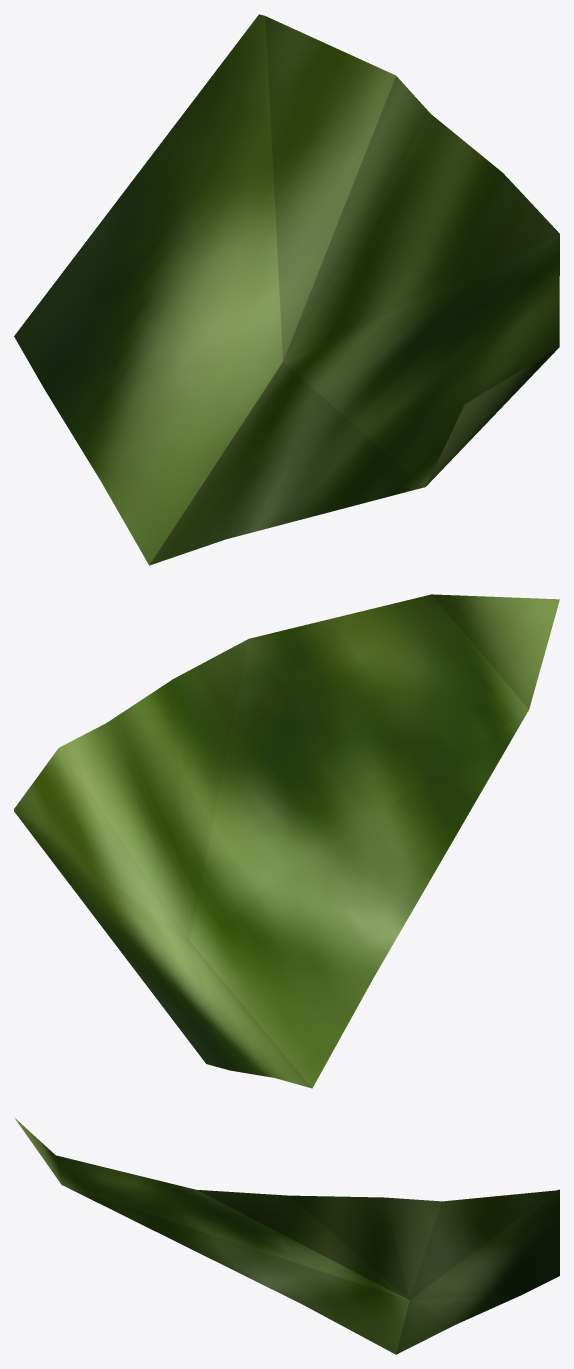
3 views of the same model, one above another, from view 1: azimuth 30°, elevation 25°; view 2: azimuth 150°, elevation 25°; view 3: azimuth 270°, elevation 25° (orthographic). The views are drawn at different scales.
Bounding box in the file's own units: 0.068 × 0.0894 × 0.1861.
Materials: 1 (1 with a texture image).
